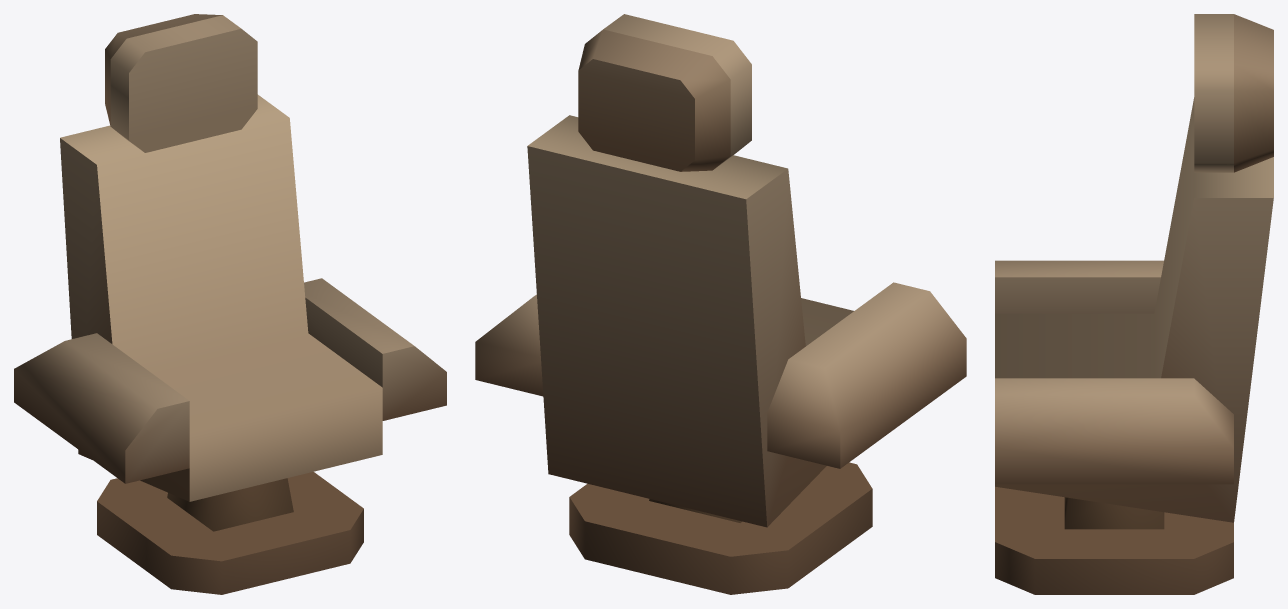
File: chair-armrest-headrest.glb
The picture shows the model from 3 angles, left to right: view 1: azimuth 30°, elevation 25°; view 2: azimuth 150°, elevation 25°; view 3: azimuth 270°, elevation 25°; orthographic projection. The views are drawn at different scales.
Visible parts, largest first — view 1: chair-armrest-headrest; view 2: chair-armrest-headrest; view 3: chair-armrest-headrest.
Boxes of the visible parts, bbox=[...] form: chair-armrest-headrest: bbox=[14, 14, 446, 594]; chair-armrest-headrest: bbox=[475, 14, 966, 594]; chair-armrest-headrest: bbox=[995, 14, 1273, 594].
Size of the model in its own units: 0.5 by 0.7 by 0.3499.
